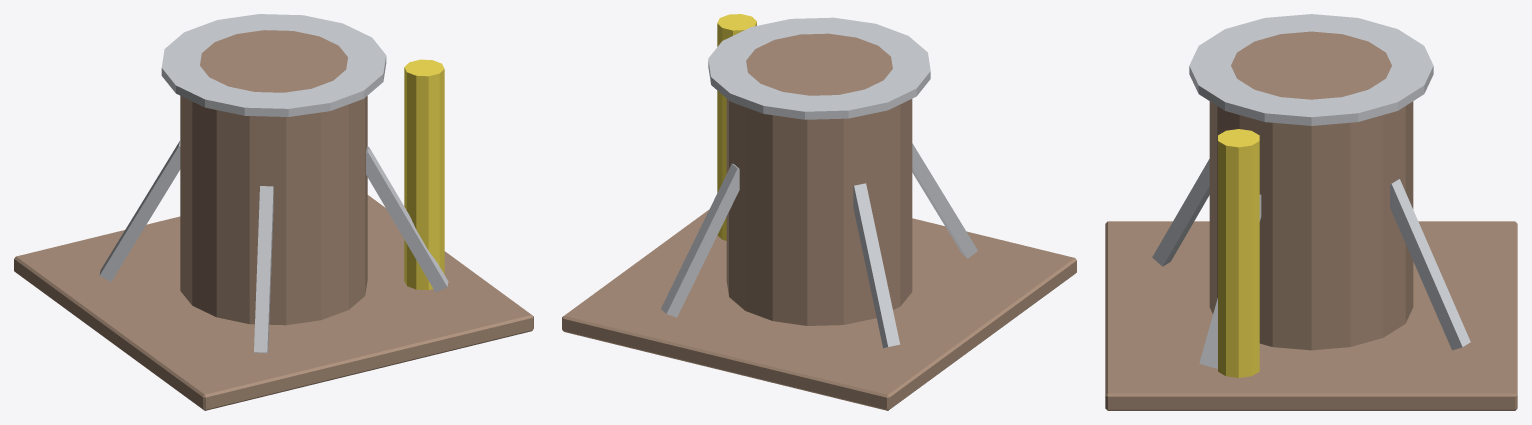
The model's file is offshore-oil-rig-and-platform-jacket-pile-stub-82a4f5fa__37004.glb.
3 views of the same model, side by side, from view 1: azimuth 30°, elevation 25°; view 2: azimuth 150°, elevation 25°; view 3: azimuth 270°, elevation 25° (orthographic). The views are drawn at different scales.
Visible parts, largest first — view 1: jacket-pile-stub; view 2: jacket-pile-stub; view 3: jacket-pile-stub.
Part boxes in pixels (x1,y1,x2,y2): jacket-pile-stub: [14, 14, 533, 410]; jacket-pile-stub: [562, 14, 1076, 410]; jacket-pile-stub: [1105, 14, 1517, 410].
Bounding box in the file's own units: 3.4 × 2.36 × 3.4.
